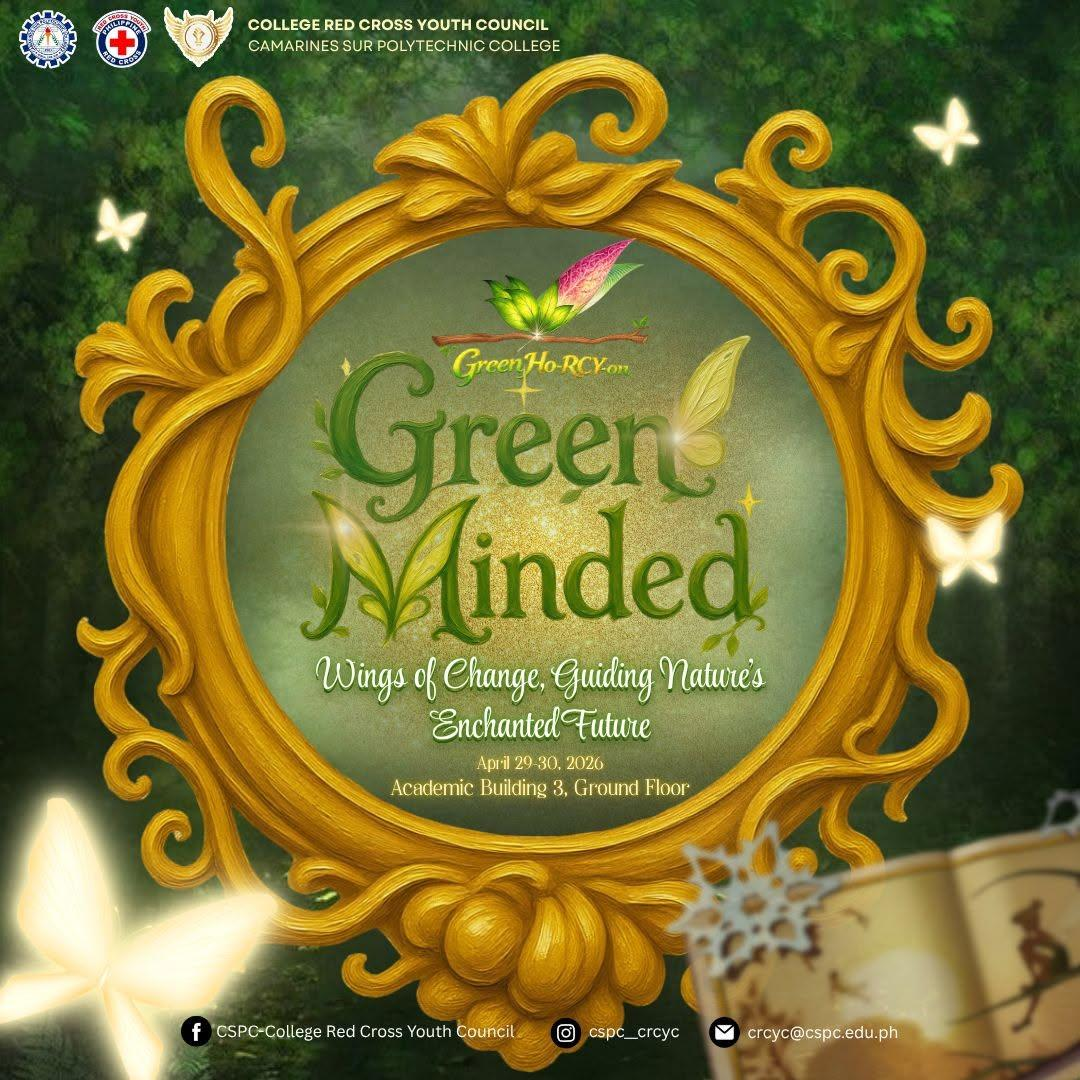embellishment: (0, 772, 308, 1079), (430, 241, 654, 346), (924, 509, 1008, 588), (910, 96, 983, 167), (94, 198, 148, 254), (180, 1014, 214, 1049), (551, 1013, 583, 1049), (707, 1015, 741, 1048)
logo: (162, 5, 235, 69), (15, 8, 79, 70), (92, 9, 152, 70)
text: (299, 490, 769, 666), (300, 356, 726, 522), (315, 656, 765, 741), (247, 15, 562, 53), (390, 778, 689, 800), (454, 347, 629, 378), (215, 1024, 515, 1042), (748, 1024, 897, 1043), (477, 754, 604, 772), (589, 1025, 679, 1042)
